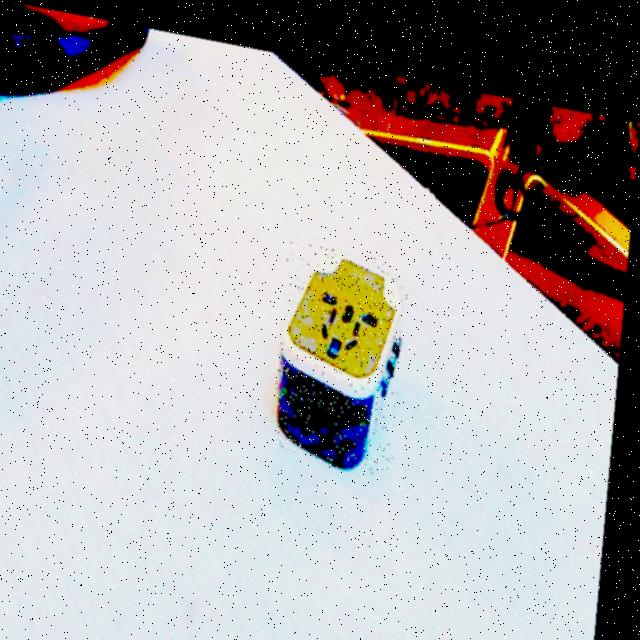adapter: (276, 228, 413, 461)
